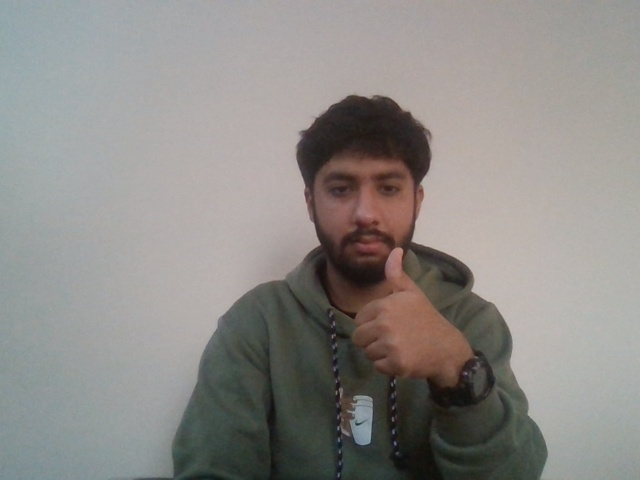Yes: (334, 242, 447, 387)
